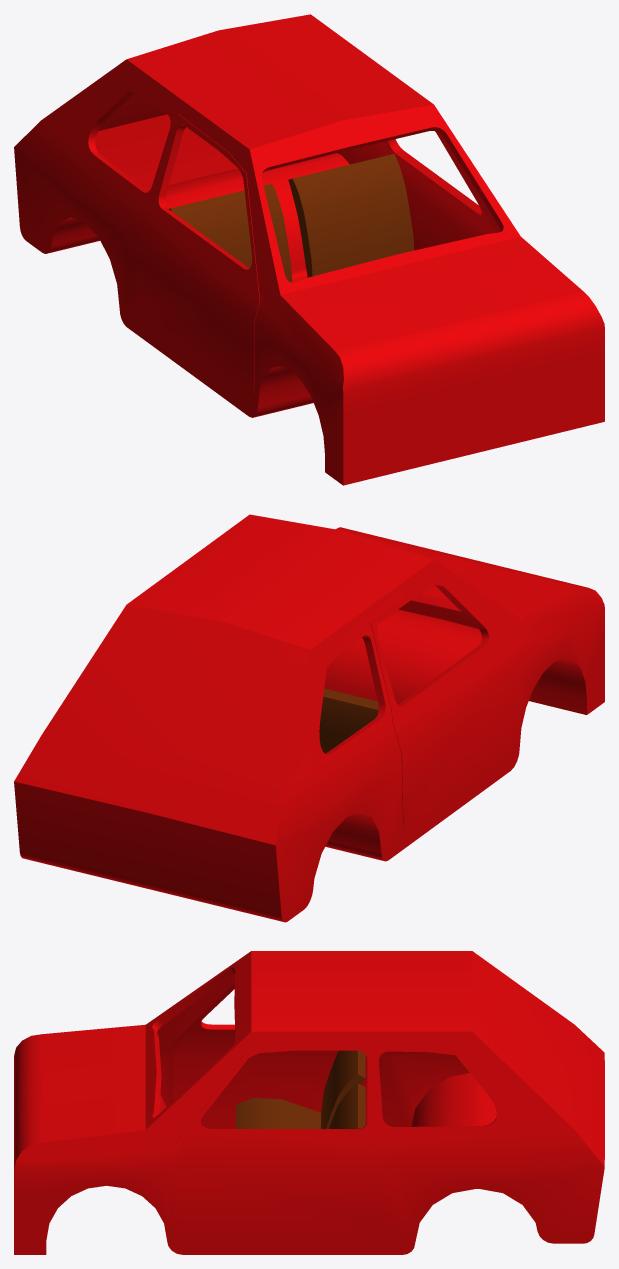
Rendered from maluch.fbx.
The picture shows the model from 3 angles, top to bottom: view 1: azimuth 30°, elevation 25°; view 2: azimuth 150°, elevation 25°; view 3: azimuth 270°, elevation 25°; orthographic projection. The views are drawn at different scales.
Visible parts, largest first — view 1: body, seats; view 2: body, seats; view 3: body, seats.
Boxes of the visible parts, left/top/right/bottom form: body: left=14, top=14, right=604, bottom=485; seats: left=169, top=154, right=414, bottom=282; body: left=14, top=514, right=604, bottom=922; seats: left=319, top=688, right=378, bottom=753; body: left=14, top=951, right=604, bottom=1254; seats: left=236, top=1050, right=365, bottom=1128.
Size of the model in its own units: 71.09 by 61.13 by 154.
